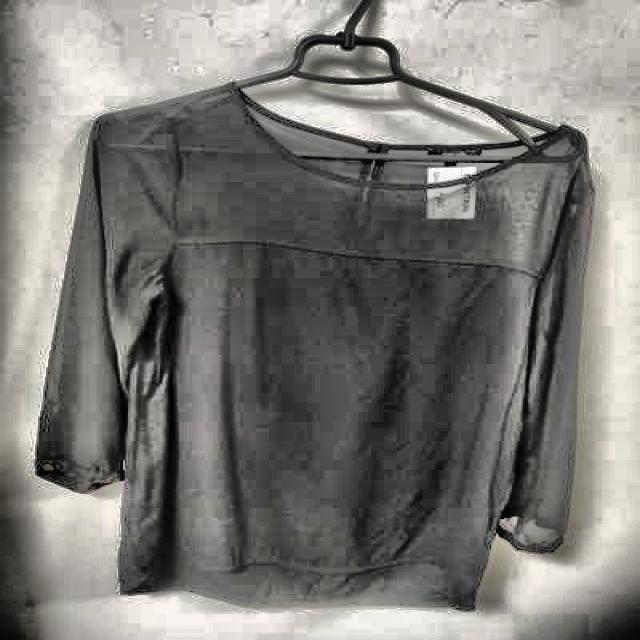clothes: (37, 79, 600, 620)
